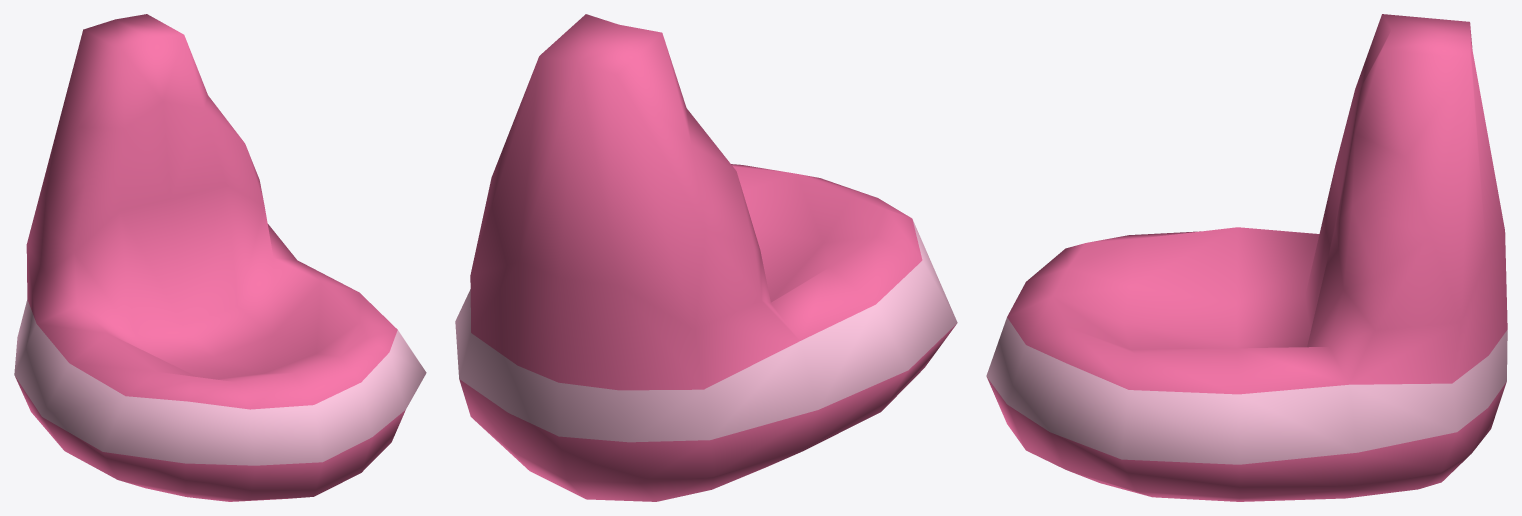
The model's file is Prop_BagChair_03.fbx.
3 renders of one model, left to right at view 1: azimuth 30°, elevation 25°; view 2: azimuth 150°, elevation 25°; view 3: azimuth 270°, elevation 25°, orthographic. The views are drawn at different scales.
Parts seen in each view (by area): view 1: Prop_BagChair_03; view 2: Prop_BagChair_03; view 3: Prop_BagChair_03.
Part boxes in pixels (x1,y1,x2,y2): Prop_BagChair_03: [14, 14, 426, 501]; Prop_BagChair_03: [455, 14, 957, 501]; Prop_BagChair_03: [986, 14, 1507, 501].
Bounding box in the file's own units: 107 × 110 × 121.
